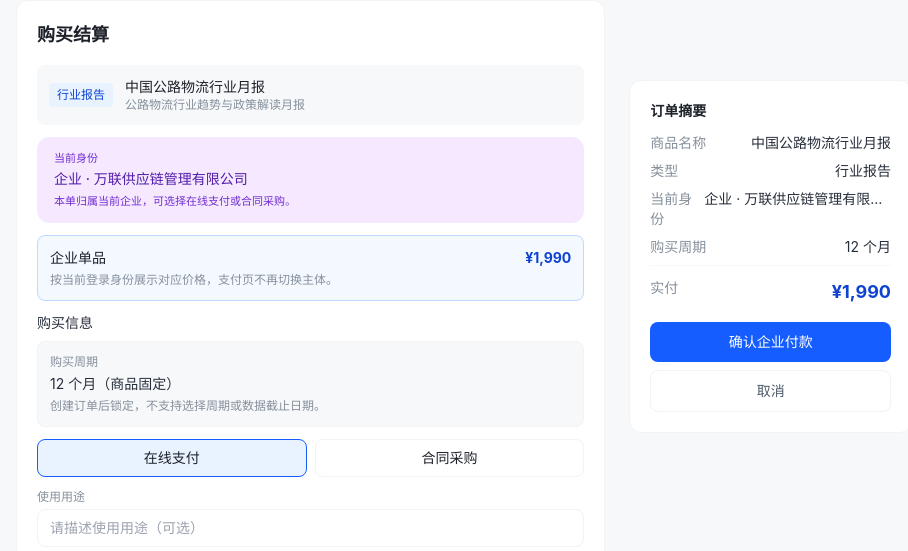
Scenario: PortalCheckout selected price path › charges the selected item price and skips the dual-path choice
Click the button with test id "purchase-final-confirm". click: click(771, 342)
box: [650, 322, 891, 362]
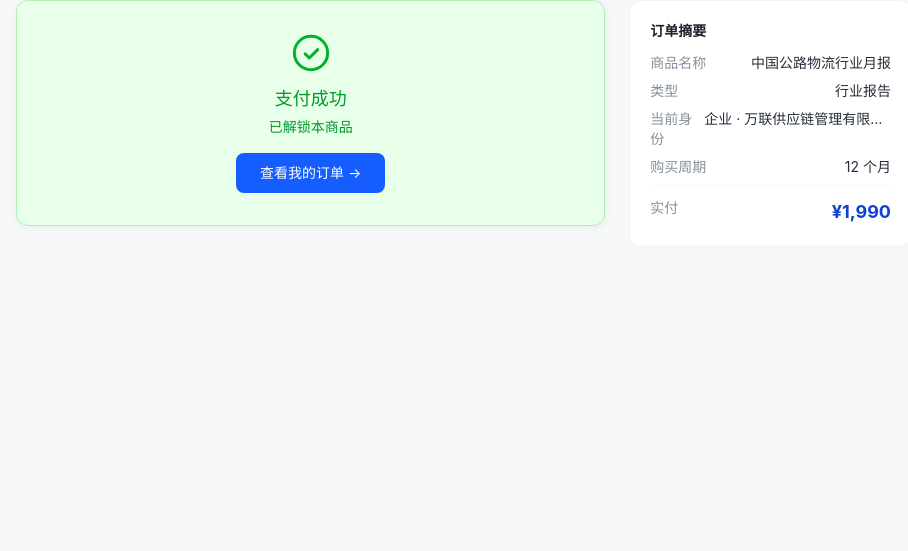
Expected: the text "支付成功" is shown, [275, 88, 347, 109]
